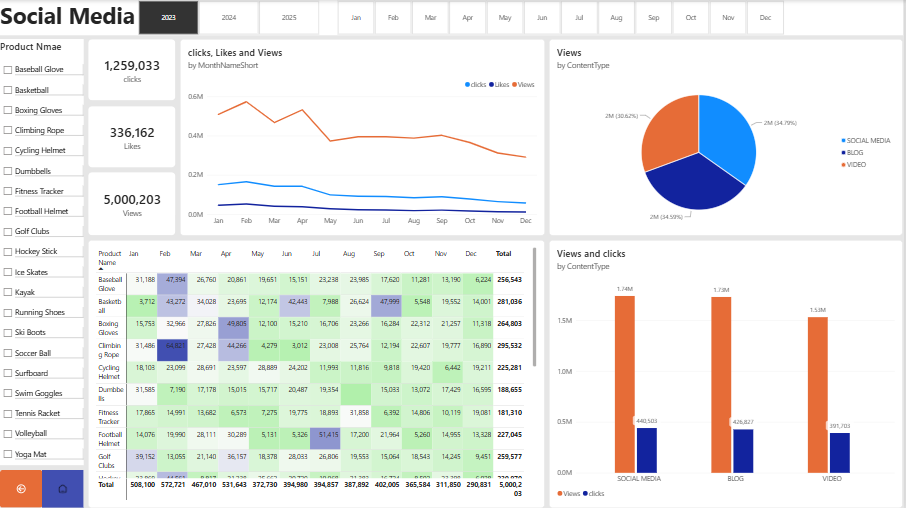

This screenshot's page, from the dashboard's own definition file:
{"tool":"powerbi","page":{"name":"Social Media","canvas":[1920,1080],"ordinal":2},"visuals":[{"type":"textbox","box":[0,0,1920,75.1],"z":0},{"type":"slicer","title":"Product Nmae","fields":{"Values":["products.ProductName"]},"box":[0,82.3,177.5,906.2],"z":1000},{"type":"cardVisual","fields":{"Data":["calculations.clicks"]},"box":[187.7,82.3,186.2,131.5],"z":2000},{"type":"cardVisual","fields":{"Data":["calculations.Likes"]},"box":[188,226,186,131],"z":3000},{"type":"cardVisual","fields":{"Data":["calculations.Views"]},"box":[188,365,186,135],"z":4000},{"type":"slicer","fields":{"Values":["Calendar.MonthNameShort"]},"box":[697.5,0,987.5,75],"z":5000},{"type":"slicer","fields":{"Values":["Calendar.Year"]},"box":[275,0,422.5,75],"z":6000},{"type":"lineChart","fields":{"Y":["calculations.clicks","calculations.Likes","calculations.Views"],"Category":["Calendar.MonthNameShort"]},"box":[383.3,82.2,775.6,417.8],"z":7000},{"type":"pieChart","fields":{"Category":["fact_engagement_data.ContentType"],"Y":["calculations.Views"]},"box":[1168,82,752,418],"z":8000},{"type":"pivotTable","fields":{"Values":["calculations.Views"],"Columns":["Calendar.MonthNameShort"],"Rows":["products.ProductName"]},"box":[187.8,510,971.1,570],"z":9000},{"type":"lineClusteredColumnComboChart","fields":{"Y":["calculations.Views","calculations.clicks"],"Category":["fact_engagement_data.ContentType"]},"box":[1168,510,752,570],"z":10000},{"type":"actionButton","box":[0,1000,90,80],"z":11000},{"type":"actionButton","title":"home","box":[90,1000,88,80],"z":12000}]}

Visuals, with their boxes in screenshot pixels (x1, y1, x2, y2), scaled from the page's 1920x1080 canvas onto the 906x508 screenshot:
textbox: l=0, t=0, r=905, b=35
"Product Nmae" slicer: l=0, t=39, r=84, b=465
cardVisual - calculations.clicks: l=89, t=39, r=176, b=101
cardVisual - calculations.Likes: l=89, t=106, r=176, b=168
cardVisual - calculations.Views: l=89, t=172, r=176, b=235
slicer - Calendar.MonthNameShort: l=329, t=0, r=795, b=35
slicer - Calendar.Year: l=130, t=0, r=329, b=35
lineChart - calculations.clicks x calculations.Likes: l=181, t=39, r=547, b=235
pieChart - fact_engagement_data.ContentType x calculations.Views: l=551, t=39, r=905, b=235
pivotTable - calculations.Views x Calendar.MonthNameShort: l=89, t=240, r=547, b=507
lineClusteredColumnComboChart - calculations.Views x calculations.clicks: l=551, t=240, r=905, b=507
actionButton: l=0, t=470, r=42, b=507
"home" actionButton: l=42, t=470, r=84, b=507
